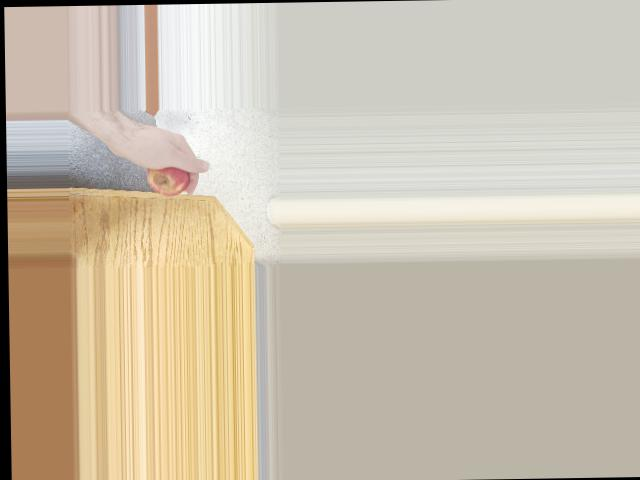apple: (144, 154, 188, 196)
